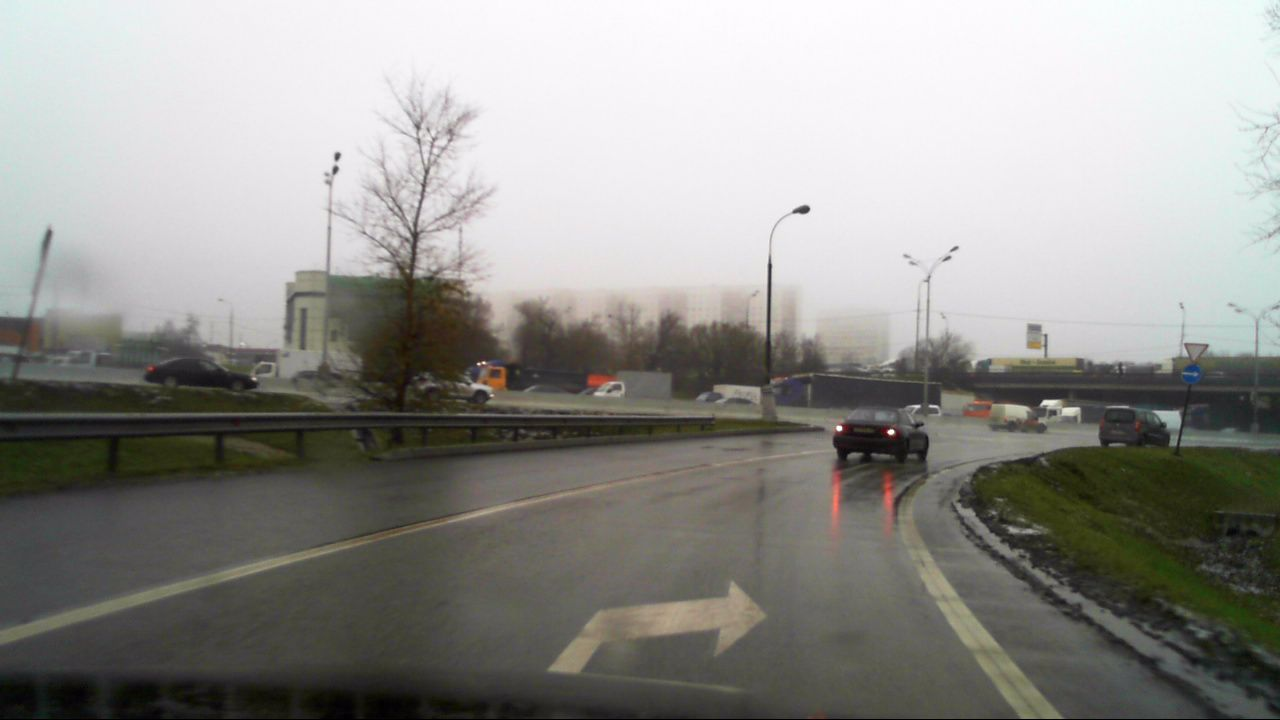Turn Right: (1180, 364, 1202, 384)
